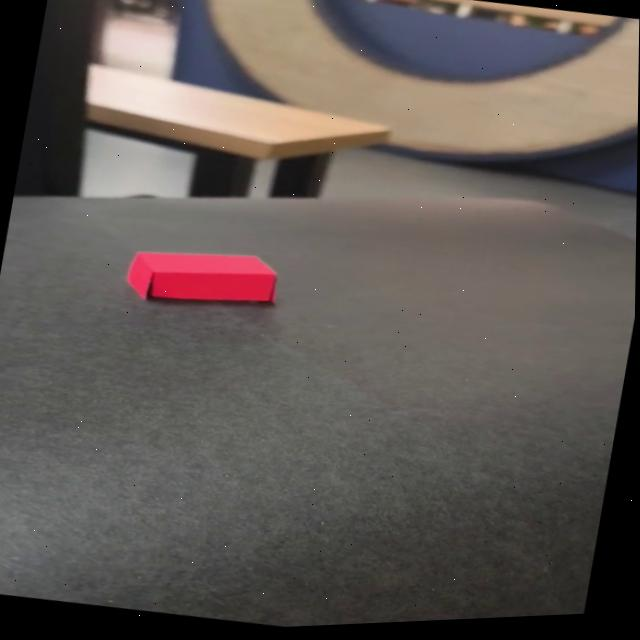red block: (123, 232, 283, 320)
